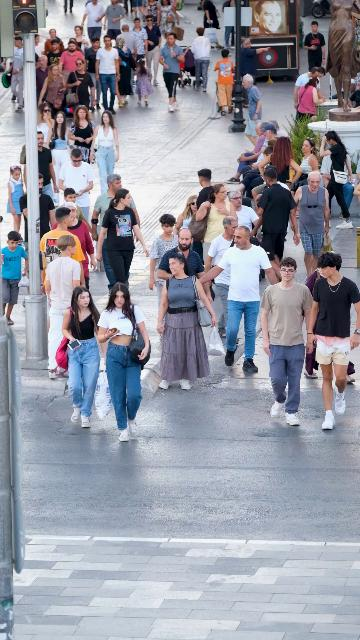person: (196, 226, 279, 373), (307, 251, 360, 430), (260, 256, 315, 427), (97, 282, 151, 442), (156, 253, 218, 391), (60, 286, 105, 429), (248, 165, 301, 283), (44, 235, 83, 380), (97, 189, 150, 293), (91, 173, 141, 270), (39, 207, 86, 306), (292, 171, 331, 280), (204, 216, 238, 340), (55, 200, 97, 292), (196, 183, 239, 267), (222, 122, 278, 186), (157, 228, 207, 298), (320, 130, 355, 229), (148, 213, 182, 308), (18, 173, 58, 250), (19, 131, 59, 206), (220, 146, 275, 198), (58, 148, 94, 223), (303, 269, 327, 380), (1, 231, 29, 326), (89, 110, 120, 195), (258, 136, 303, 192), (173, 194, 209, 260), (56, 187, 98, 242), (241, 120, 288, 168), (159, 32, 186, 112), (94, 35, 120, 114), (48, 111, 73, 188), (224, 190, 260, 238), (68, 106, 96, 165), (240, 38, 271, 91), (291, 137, 320, 193), (188, 27, 212, 93), (6, 165, 26, 241), (4, 37, 24, 113), (293, 66, 326, 112), (66, 59, 95, 110), (242, 74, 262, 147), (115, 37, 136, 105), (214, 49, 235, 116), (143, 14, 162, 86), (84, 36, 102, 111), (297, 77, 326, 122), (303, 21, 327, 72), (252, 170, 291, 201), (81, 0, 106, 45), (58, 39, 84, 82), (103, 0, 125, 48), (157, 0, 179, 47), (201, 0, 221, 50), (134, 61, 155, 108), (131, 18, 149, 70), (120, 24, 137, 78), (36, 103, 54, 149), (195, 168, 212, 211), (222, 0, 235, 49), (45, 29, 65, 57), (47, 40, 64, 71), (343, 172, 356, 212), (74, 26, 91, 56), (144, 0, 161, 28), (131, 0, 146, 27), (321, 154, 331, 189), (34, 34, 46, 61), (353, 161, 360, 200), (124, 0, 134, 15), (170, 0, 178, 10)
